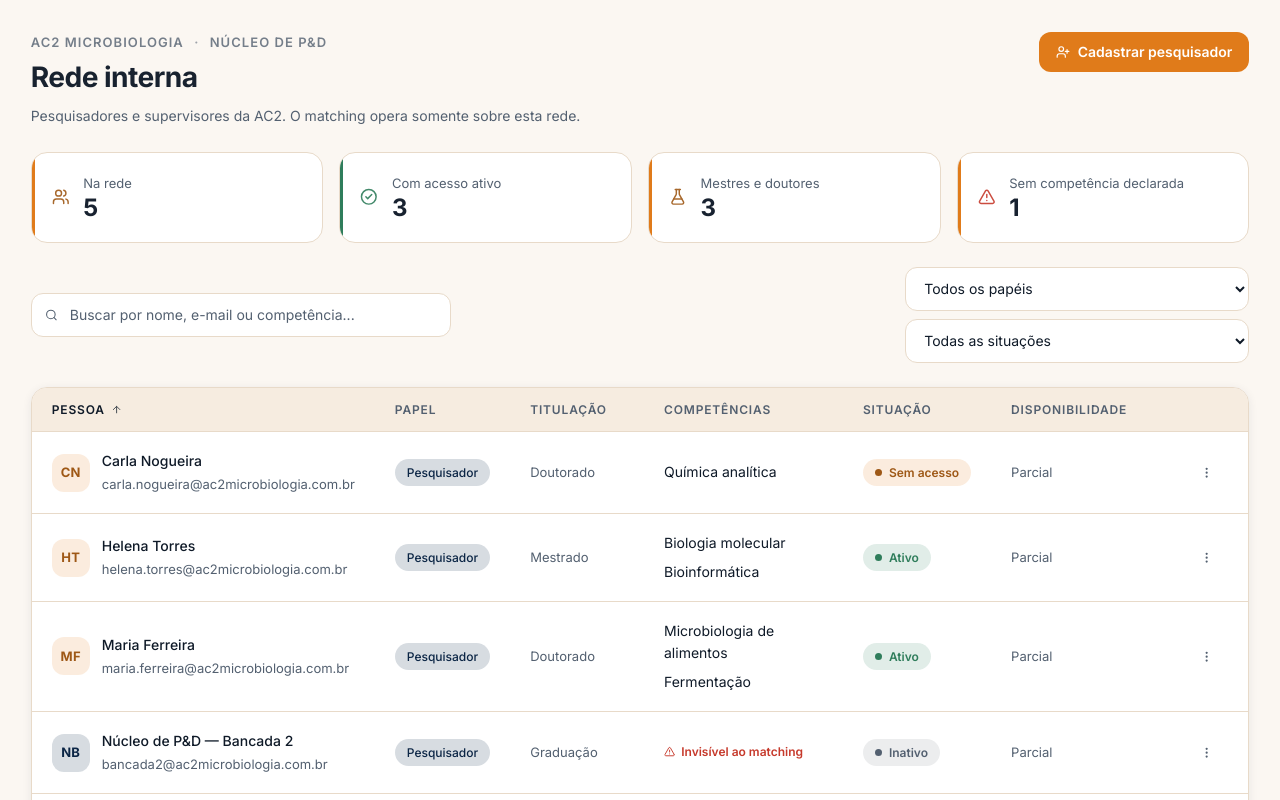
Test: RedePage › busca também por competência, não só por nome
Expected: the text "Maria Ferreira" is shown, [102,636,195,653]
Type "bioinformática" into the search field named "buscar na rede interna" at (241, 315), box [31,293,451,337]
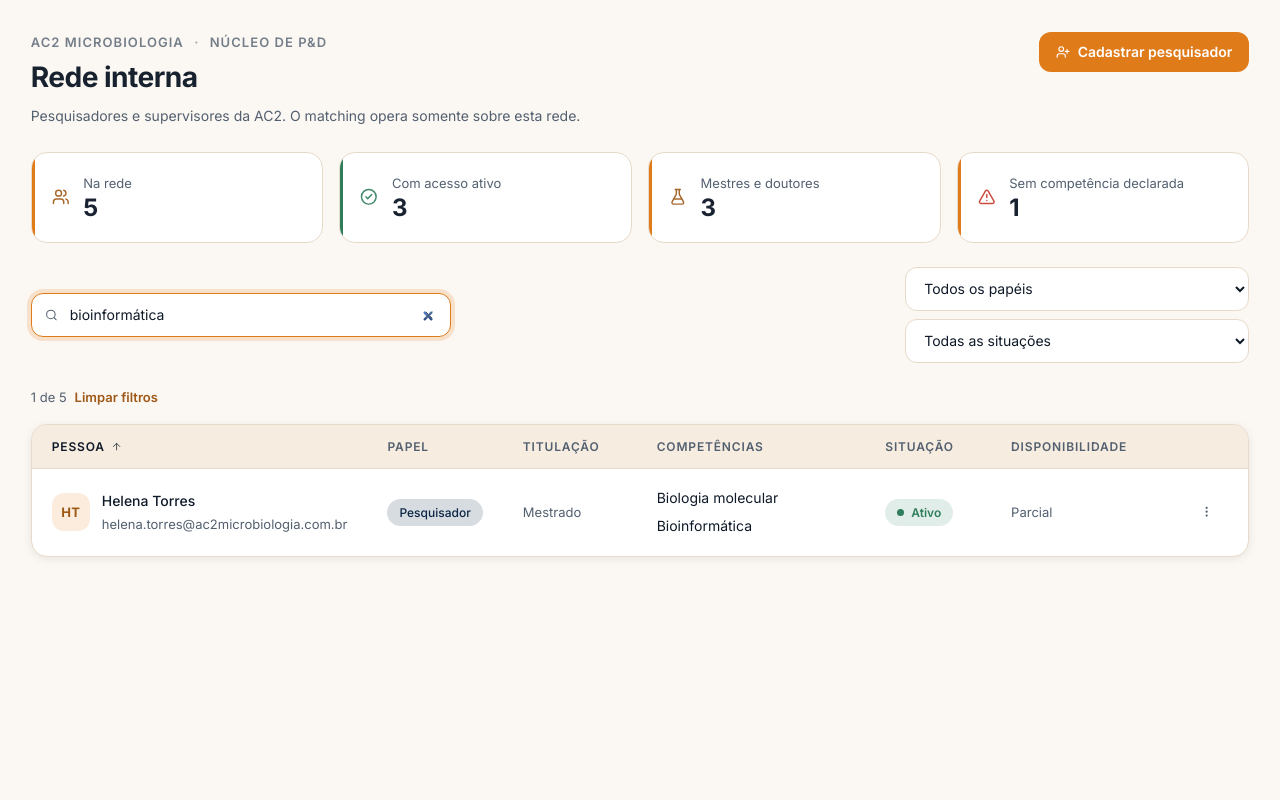
Expected: the text "Helena Torres" is shown, [102,492,195,508]
Expected: the button "Maria Ferreira" is gone
